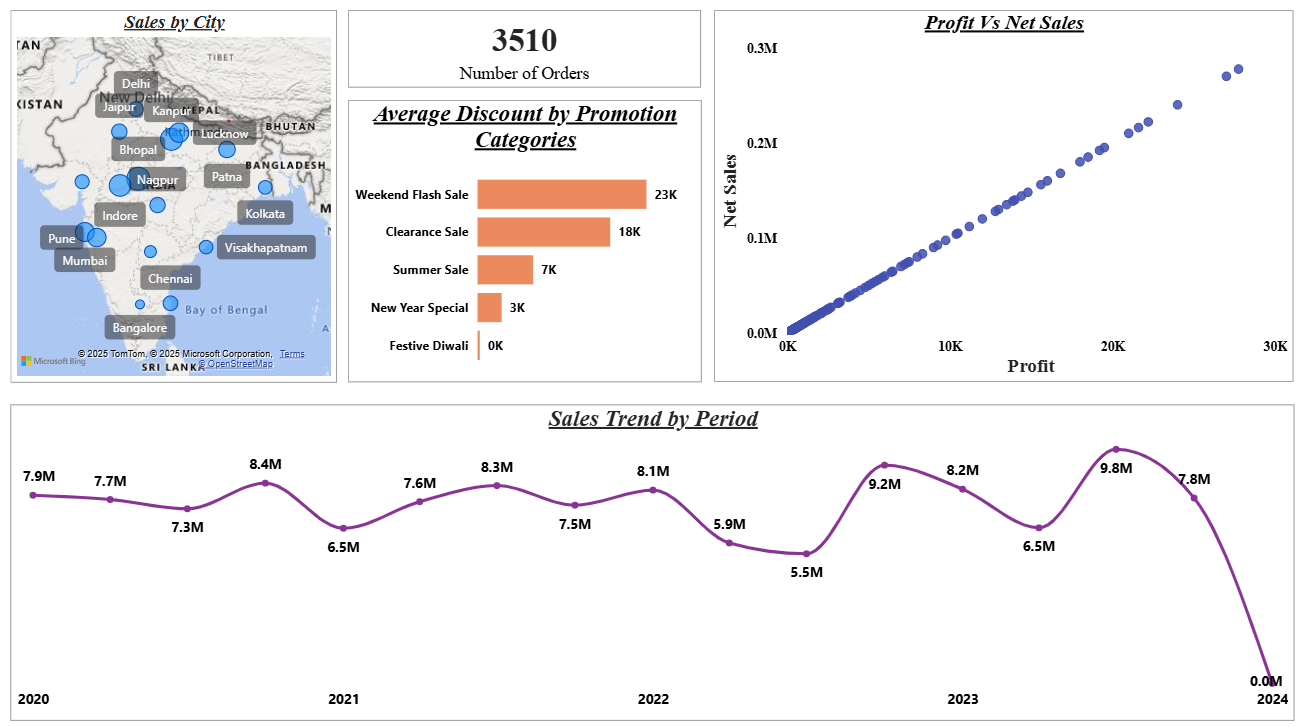

What the dashboard file says about the page in this screenshot:
{"tool":"powerbi","page":{"name":"Overview","canvas":[1280,720],"ordinal":0},"visuals":[{"type":"lineChart","title":"Sales Trend by Period","fields":{"Y":["Sum(Facts Table.Net Sales)"],"Category":["Date Table 1.Date.Variation.Date Hierarchy.Year","Date Table 1.Date.Variation.Date Hierarchy.Quarter","Date Table 1.Date.Variation.Date Hierarchy.Month","Date Table 1.Date.Variation.Date Hierarchy.Day"]},"box":[9.9,399.2,1258.9,309.8],"z":0},{"type":"scatterChart","title":"Profit Vs Net Sales","fields":{"Y":["Sum(Facts Table.Net Sales)"],"X":["Sum(Facts Table.Profit)"]},"box":[700.7,11.6,568.2,364.4],"z":1000},{"type":"barChart","title":"Average Discount by Promotion Categories","fields":{"Y":["Avg(Facts Table.Discount value)"],"Category":["Dim Promotion.Promotion Name"]},"box":[341.7,100,346.7,276.7],"z":2000},{"type":"map","title":"Sales by City","fields":{"Category":["Dim Customers.City"],"Size":["Sum(Facts Table.Net Sales)"]},"box":[10,11.7,320,365],"z":3000},{"type":"card","fields":{"Values":["Count(Facts Table.Order ID)"]},"box":[341.2,11.6,346.2,76.2],"z":4000}]}

Visuals, with their boxes in screenshot pixels (x1, y1, x2, y2), scaled from the page's 1280x720 canvas onto the 1303x727 screenshot:
"Sales Trend by Period" lineChart: (10,403,1292,716)
"Profit Vs Net Sales" scatterChart: (713,12,1292,380)
"Average Discount by Promotion Categories" barChart: (348,101,701,380)
"Sales by City" map: (10,12,336,380)
card - Count(Facts Table.Order ID): (347,12,700,89)
